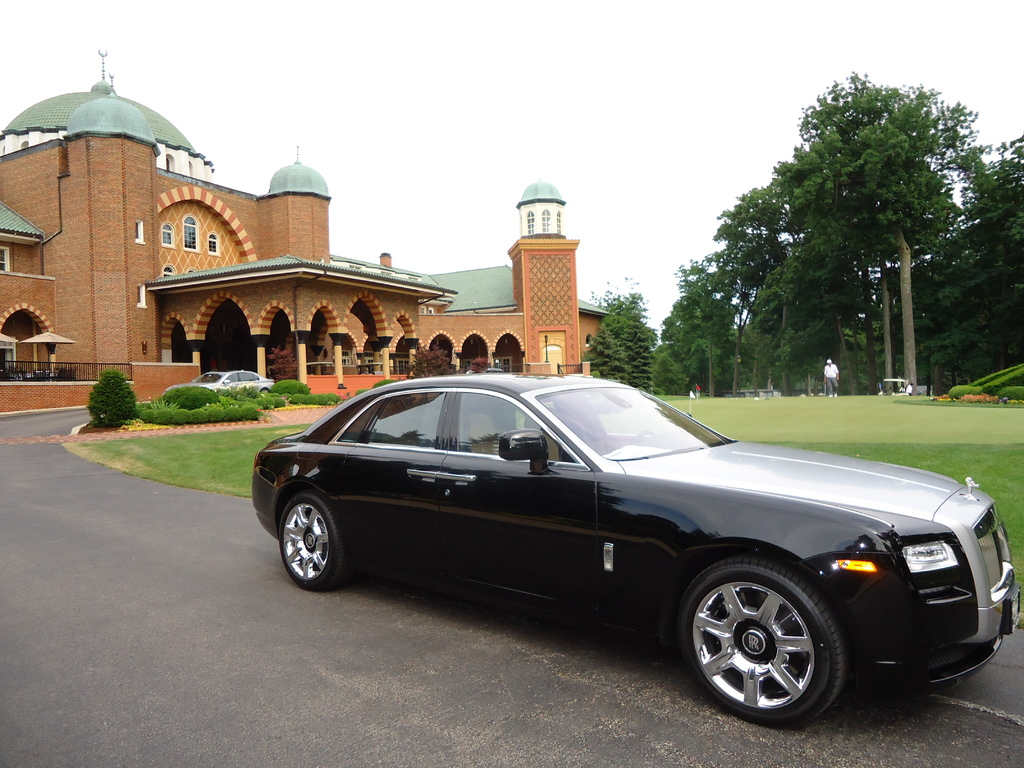Car: (252, 369, 1022, 726), (190, 366, 278, 393)
